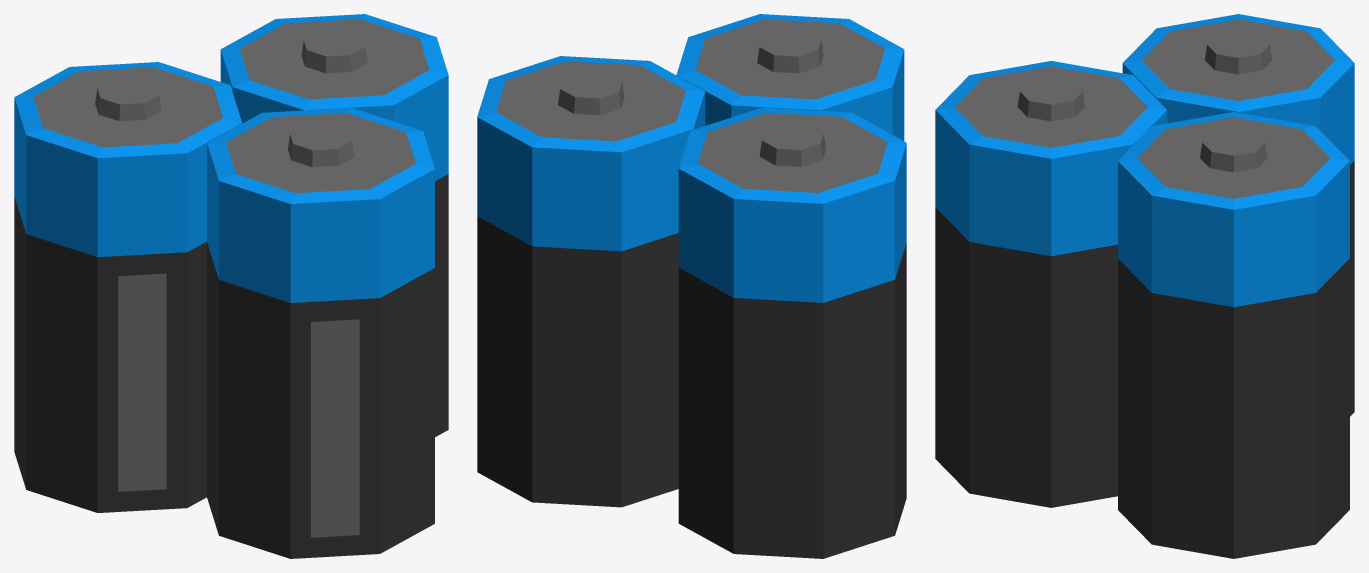
File: EnergyMesh.fbx
The picture shows the model from 3 angles, left to right: view 1: azimuth 30°, elevation 25°; view 2: azimuth 150°, elevation 25°; view 3: azimuth 270°, elevation 25°; orthographic projection.
Parts seen in each view (by area): view 1: Battery_Small.002, Battery_Small, Battery_Small.001; view 2: Battery_Small, Battery_Small.001, Battery_Small.002; view 3: Battery_Small.001, Battery_Small.002, Battery_Small.
Boxes of the visible parts, x1,y1,x2,y2 form: Battery_Small.002: (207, 108, 434, 558); Battery_Small: (14, 62, 242, 512); Battery_Small.001: (220, 14, 448, 436); Battery_Small: (678, 107, 906, 558); Battery_Small.001: (477, 56, 705, 507); Battery_Small.002: (676, 14, 904, 140); Battery_Small.001: (1118, 112, 1349, 558); Battery_Small.002: (935, 61, 1167, 507); Battery_Small: (1122, 14, 1354, 416).
Bounding box in the file's own units: 36.73 × 32.12 × 33.22.
